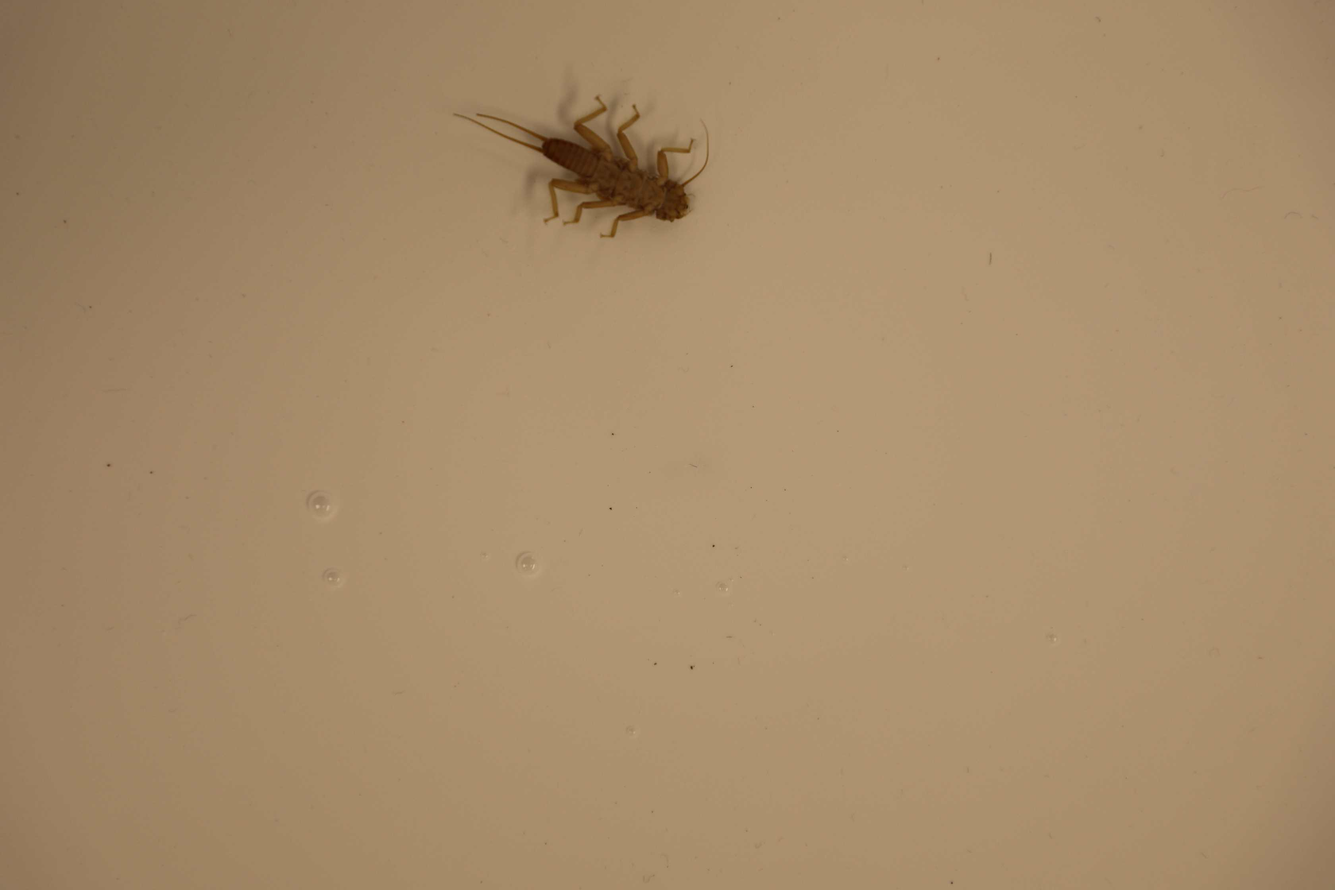Stonefly: (449, 86, 708, 239)
